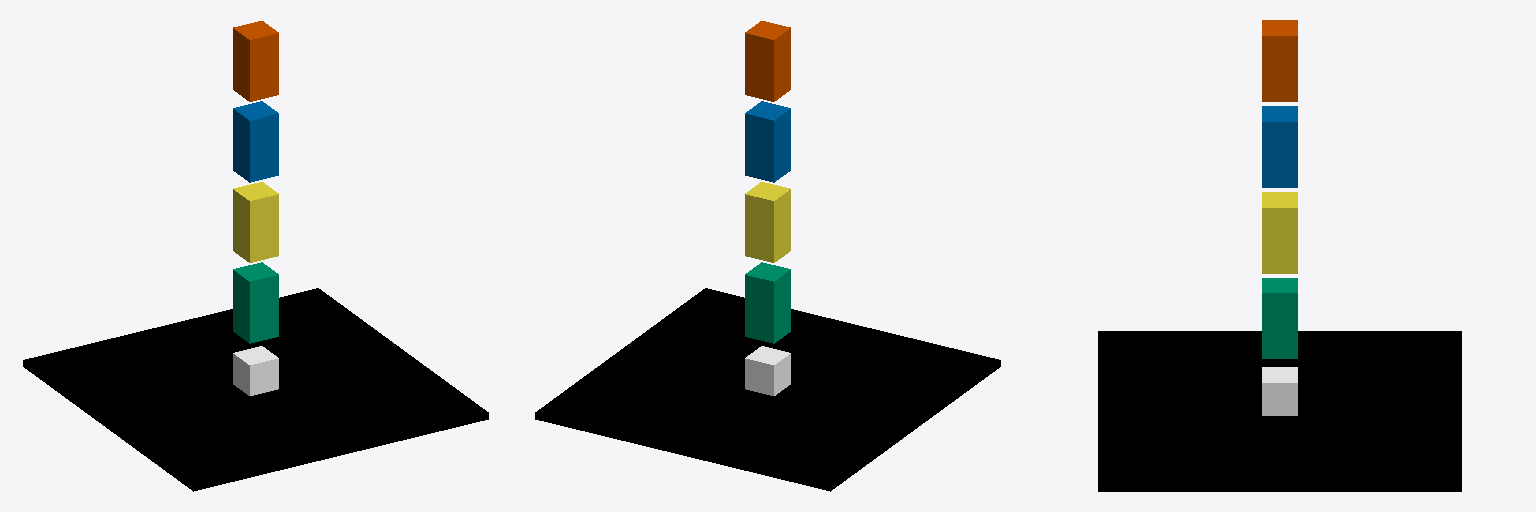
robot.urdf — simple_model:
<?xml version="1.0" ?>
<!-- =================================================================================== -->
<!-- |    This document was autogenerated by xacro from simple_model.urdf.xacro        | -->
<!-- |    EDITING THIS FILE BY HAND IS NOT RECOMMENDED                                 | -->
<!-- =================================================================================== -->
<robot name="simple_model" xmlns:xacro="http://www.ros.org/wiki/xacro">
  <!-- Include materials -->
  <material name="Black">
    <color rgba="0.0 0.0 0.0 1.0"/>
  </material>
  <material name="Red">
    <color rgba="0.8 0.0 0.0 1.0"/>
  </material>
  <material name="White">
    <color rgba="1.0 1.0 1.0 1.0"/>
  </material>
  <!-- Bottom link -->
  <link name="bottom_link">
    <visual>
      <origin rpy="0 0 0" xyz="0 0 0"/>
      <geometry>
        <box size="1 1 0.02"/>
      </geometry>
      <material name="Black"/>
    </visual>
    <collision>
      <origin rpy="0 0 0" xyz="0 0 0"/>
      <geometry>
        <box size="1 1 0.02"/>
      </geometry>
    </collision>
  </link>
  <gazebo reference="bottom_link">
    <material>Gazebo/Black</material>
  </gazebo>
  <!-- Base link -->
  <link name="base_link">
    <visual>
      <origin rpy="0 0 0" xyz="0 0 0.02"/>
      <geometry>
        <box size="0.1 0.1 0.1"/>
      </geometry>
      <material name="White"/>
    </visual>
    <collision>
      <origin rpy="0 0 0" xyz="0 0 0"/>
      <geometry>
        <box size="0.1 0.1 0.1"/>
      </geometry>
    </collision>
    <inertial>
      <mass value="1"/>
      <inertia ixx="1.0" ixy="0.0" ixz="0.0" iyy="0.5" iyz="0.0" izz="1.0"/>
    </inertial>
  </link>
  <gazebo reference="base_link">
    <material>Gazebo/Red</material>
  </gazebo>
  <link name="second_link">
    <visual>
      <origin rpy="0 0 0" xyz="0 0 0.14"/>
      <geometry>
        <box size="0.1 0.1 0.2"/>
      </geometry>
    </visual>
    <collision>
      <origin rpy="0 0 0" xyz="0 0 0"/>
      <geometry>
        <box size="0.1 0.1 0.2"/>
      </geometry>
    </collision>
    <inertial>
      <mass value="1"/>
      <inertia ixx="1.0" ixy="0.0" ixz="0.0" iyy="0.5" iyz="0.0" izz="1.0"/>
    </inertial>
  </link>
  <gazebo reference="second_link">
    <material>Gazebo/White</material>
  </gazebo>
  <link name="third_link">
    <visual>
      <origin rpy="0 0 0" xyz="0 0 0.14"/>
      <geometry>
        <box size="0.1 0.1 0.2"/>
      </geometry>
    </visual>
    <collision>
      <origin rpy="0 0 0" xyz="0 0 0"/>
      <geometry>
        <box size="0.1 0.1 0.2"/>
      </geometry>
    </collision>
    <inertial>
      <mass value="1"/>
      <inertia ixx="1.0" ixy="0.0" ixz="0.0" iyy="0.5" iyz="0.0" izz="1.0"/>
    </inertial>
  </link>
  <gazebo reference="third_link">
    <material>Gazebo/Black</material>
  </gazebo>
  <link name="fourth_link">
    <visual>
      <origin rpy="0 0 0" xyz="0 0 0.14"/>
      <geometry>
        <box size="0.1 0.1 0.2"/>
      </geometry>
    </visual>
    <collision>
      <origin rpy="0 0 0" xyz="0 0 0"/>
      <geometry>
        <box size="0.1 0.1 0.2"/>
      </geometry>
    </collision>
    <inertial>
      <mass value="1"/>
      <inertia ixx="1.0" ixy="0.0" ixz="0.0" iyy="0.5" iyz="0.0" izz="1.0"/>
    </inertial>
  </link>
  <gazebo reference="fourth_link">
    <material>Gazebo/White</material>
  </gazebo>
  <link name="fifth_link">
    <visual>
      <origin rpy="0 0 0" xyz="0 0 0.14"/>
      <geometry>
        <box size="0.1 0.1 0.2"/>
      </geometry>
    </visual>
    <collision>
      <origin rpy="0 0 0" xyz="0 0 0"/>
      <geometry>
        <box size="0.1 0.1 0.2"/>
      </geometry>
    </collision>
    <inertial>
      <mass value="1"/>
      <inertia ixx="1.0" ixy="0.0" ixz="0.0" iyy="0.5" iyz="0.0" izz="1.0"/>
    </inertial>
  </link>
  <gazebo reference="fifth_link">
    <material>Gazebo/Black</material>
  </gazebo>
  <joint name="bottom_joint" type="fixed">
    <origin rpy="0 0 0" xyz="0 0 -0.04"/>
    <parent link="base_link"/>
    <child link="bottom_link"/>
  </joint>
  <joint name="second_joint" type="revolute">
    <origin rpy="0 0 0" xyz="0 0 0.1"/>
    <parent link="base_link"/>
    <child link="second_link"/>
    <axis xyz="0 0 1"/>
    <limit effort="300" lower="-1.0" upper="1.0" velocity="1"/>
  </joint>
  <joint name="third_joint" type="revolute">
    <origin rpy="0 0 0" xyz="0 0 0.26"/>
    <parent link="second_link"/>
    <child link="third_link"/>
    <axis xyz="0 1 0"/>
    <limit effort="300" lower="-1.0" upper="1.0" velocity="1"/>
  </joint>
  <joint name="fourth_joint" type="revolute">
    <origin rpy="0 0 0" xyz="0 0 0.26"/>
    <parent link="third_link"/>
    <child link="fourth_link"/>
    <axis xyz="1 0 0"/>
    <limit effort="300" lower="-1.0" upper="1.0" velocity="1"/>
  </joint>
  <joint name="fifth_joint" type="revolute">
    <origin rpy="0 0 0" xyz="0 0 0.26"/>
    <parent link="fourth_link"/>
    <child link="fifth_link"/>
    <axis xyz="1 0 0"/>
    <limit effort="300" lower="-1.0" upper="1.0" velocity="1"/>
  </joint>
  <transmission name="tran1">
    <type>transmission_interface/SimpleTransmission</type>
    <joint name="second_joint">
      <hardwareInterface>hardware_interface/PositionJointInterface</hardwareInterface>
    </joint>
    <actuator name="motor1">
      <hardwareInterface>hardware_interface/PositionJointInterface</hardwareInterface>
      <mechanicalReduction>1</mechanicalReduction>
    </actuator>
  </transmission>
  <transmission name="tran1">
    <type>transmission_interface/SimpleTransmission</type>
    <joint name="third_joint">
      <hardwareInterface>hardware_interface/PositionJointInterface</hardwareInterface>
    </joint>
    <actuator name="motor1">
      <hardwareInterface>hardware_interface/PositionJointInterface</hardwareInterface>
      <mechanicalReduction>1</mechanicalReduction>
    </actuator>
  </transmission>
  <transmission name="tran1">
    <type>transmission_interface/SimpleTransmission</type>
    <joint name="fourth_joint">
      <hardwareInterface>hardware_interface/PositionJointInterface</hardwareInterface>
    </joint>
    <actuator name="motor1">
      <hardwareInterface>hardware_interface/PositionJointInterface</hardwareInterface>
      <mechanicalReduction>1</mechanicalReduction>
    </actuator>
  </transmission>
  <transmission name="tran1">
    <type>transmission_interface/SimpleTransmission</type>
    <joint name="fifth_joint">
      <hardwareInterface>hardware_interface/PositionJointInterface</hardwareInterface>
    </joint>
    <actuator name="motor1">
      <hardwareInterface>hardware_interface/PositionJointInterface</hardwareInterface>
      <mechanicalReduction>1</mechanicalReduction>
    </actuator>
  </transmission>
  <gazebo>
    <plugin filename="libgazebo_ros_control.so" name="gazebo_ros_control">
      <robotNamespace>/</robotNamespace>
    </plugin>
  </gazebo>
</robot>

--- Render facts (derived) ---
The picture shows the robot from 3 angles, left to right: view 1: azimuth 30°, elevation 25°; view 2: azimuth 150°, elevation 25°; view 3: azimuth 270°, elevation 25°; orthographic projection.
Robot: simple_model — 6 links, 5 joints (4 revolute, 1 fixed); root link base_link; default pose: every joint at zero.
Links seen in each view (by area): view 1: bottom_link, fourth_link, second_link, third_link, fifth_link, base_link; view 2: bottom_link, fourth_link, second_link, third_link, fifth_link, base_link; view 3: bottom_link, third_link, fourth_link, fifth_link, second_link, base_link.
Boxes of the visible links, x1,y1,x2,y2 form: bottom_link: [23, 288, 488, 491]; fourth_link: [233, 101, 278, 182]; second_link: [233, 262, 278, 343]; third_link: [233, 182, 278, 262]; fifth_link: [233, 21, 278, 101]; base_link: [233, 346, 278, 395]; bottom_link: [535, 288, 1000, 491]; fourth_link: [745, 101, 790, 182]; second_link: [745, 262, 790, 343]; third_link: [745, 182, 790, 262]; fifth_link: [745, 21, 790, 101]; base_link: [745, 346, 790, 395]; bottom_link: [1098, 331, 1461, 491]; third_link: [1262, 192, 1297, 273]; fourth_link: [1262, 106, 1297, 187]; fifth_link: [1262, 20, 1297, 101]; second_link: [1262, 278, 1297, 358]; base_link: [1262, 367, 1297, 415].
Size in the robot's own frame: 1 by 1 by 1.17 metres.
Geometry: primitives only (box / cylinder / sphere), no mesh files.